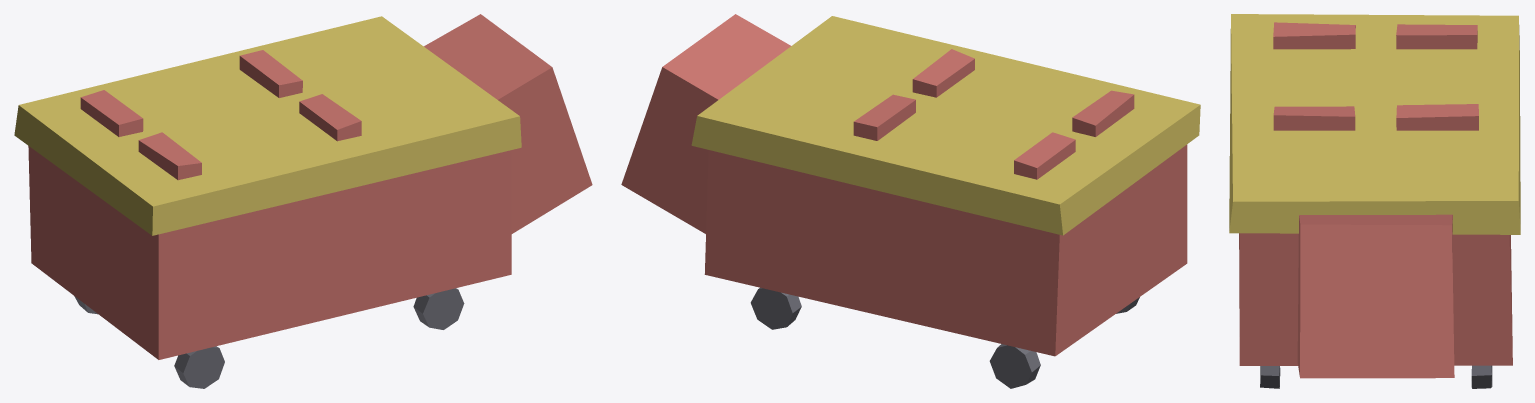
The model's file is coastercar.fbx.
3 renders of one model, left to right at view 1: azimuth 30°, elevation 25°; view 2: azimuth 150°, elevation 25°; view 3: azimuth 270°, elevation 25°, orthographic. The views are drawn at different scales.
Visible parts, largest first — view 1: CoasterCar; view 2: CoasterCar; view 3: CoasterCar.
Boxes of the visible parts, bbox=[...] form: CoasterCar: bbox=[14, 14, 592, 388]; CoasterCar: bbox=[621, 14, 1200, 388]; CoasterCar: bbox=[1229, 14, 1520, 388].
Size of the model in its own units: 2.97 by 1.34 by 1.51.
